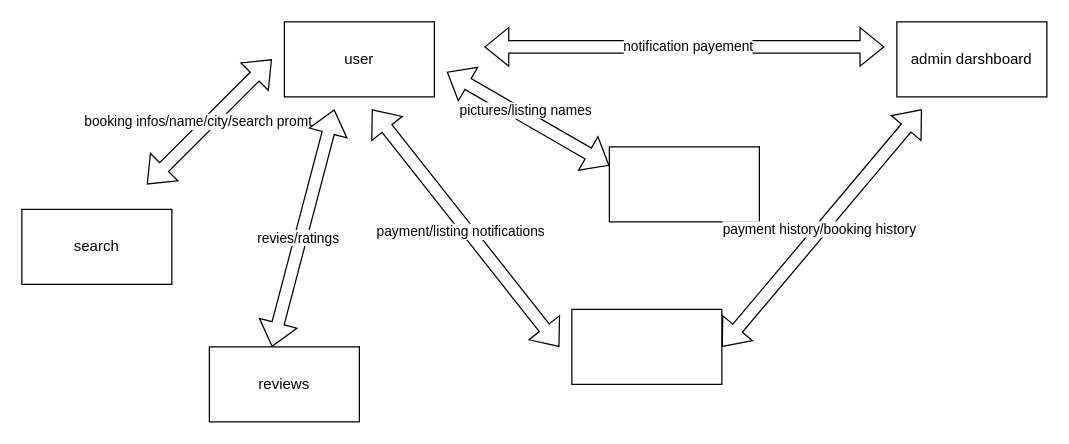
Image size: 1069x444. Some labels were removed from this diagram. The centre of each missing label's shape, as x and y in pixels:
listings: (x=683, y=184)
notification: (x=646, y=346)
